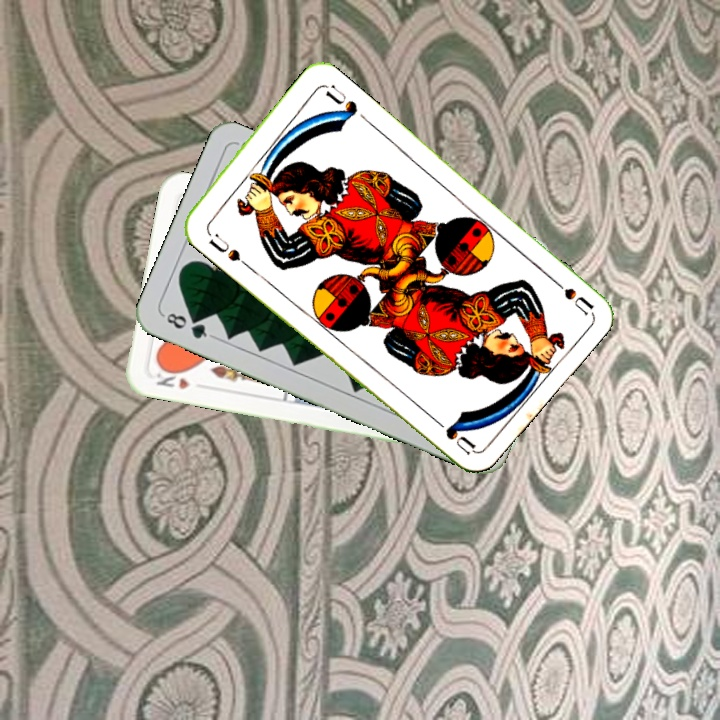G8: (159, 308, 216, 342)
HK: (149, 363, 192, 392)
SU: (543, 270, 595, 317), (202, 224, 250, 269)
